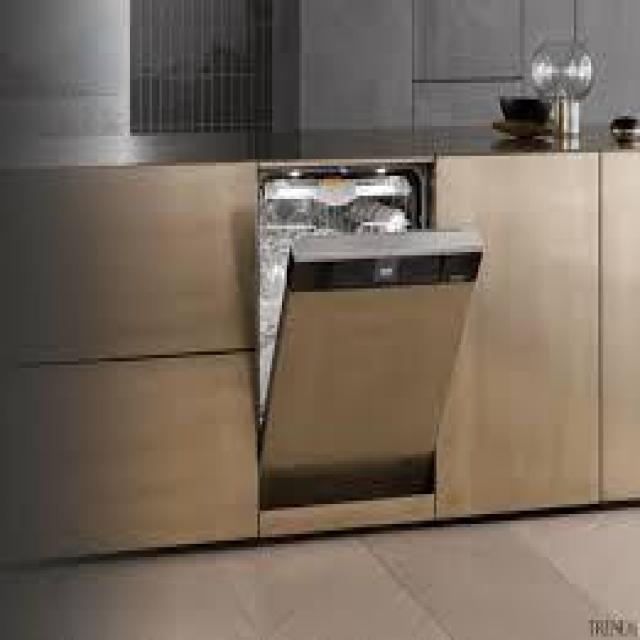dishwasher: (248, 149, 488, 514)
